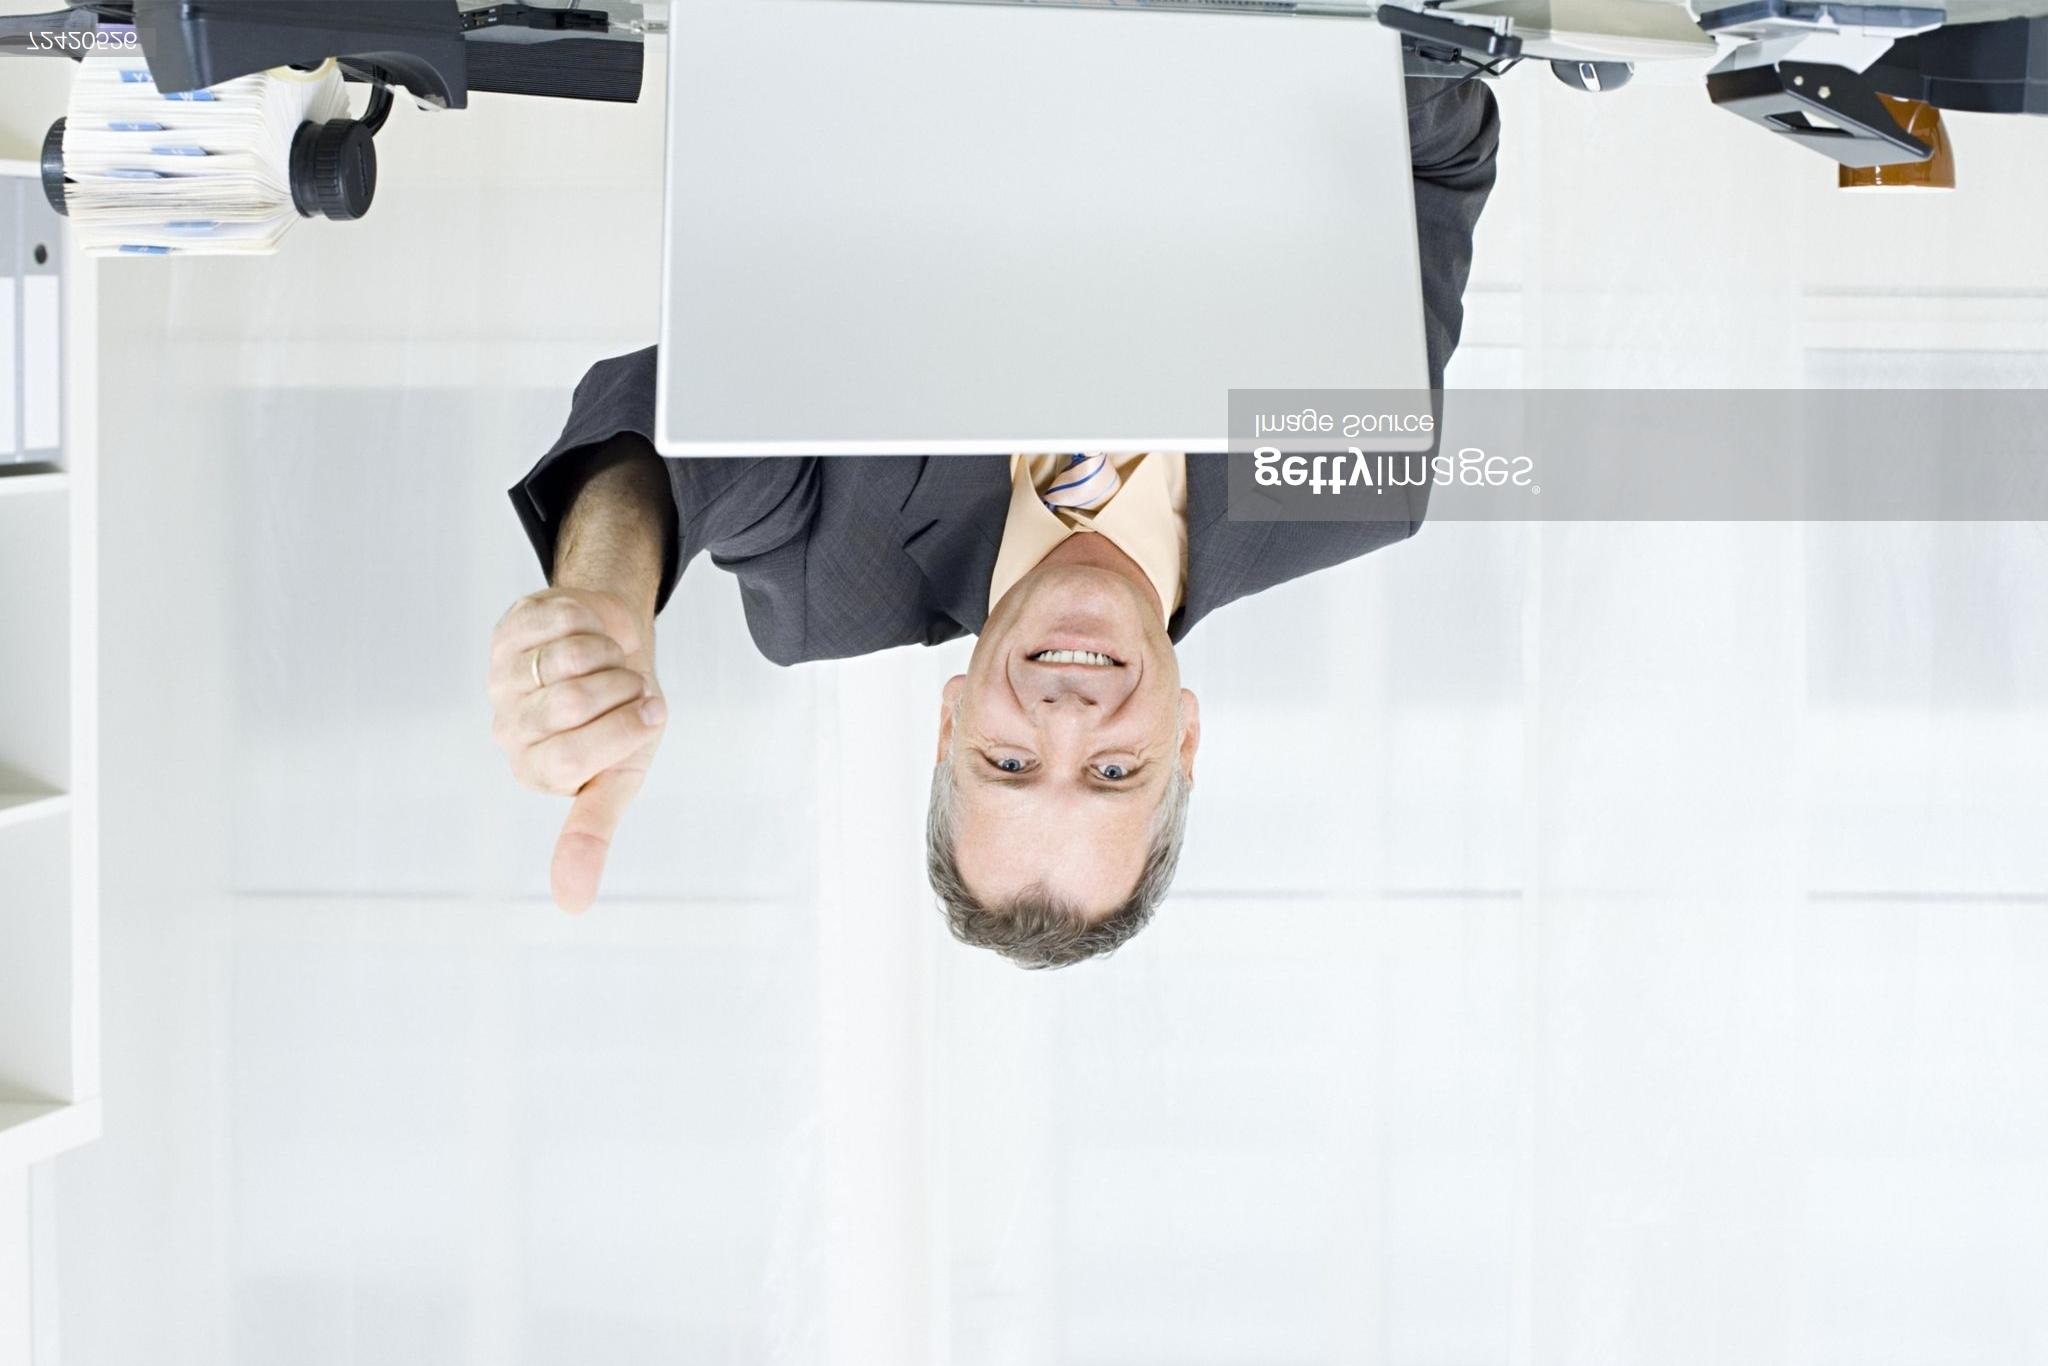thumbsdown: (486, 592, 667, 916)
